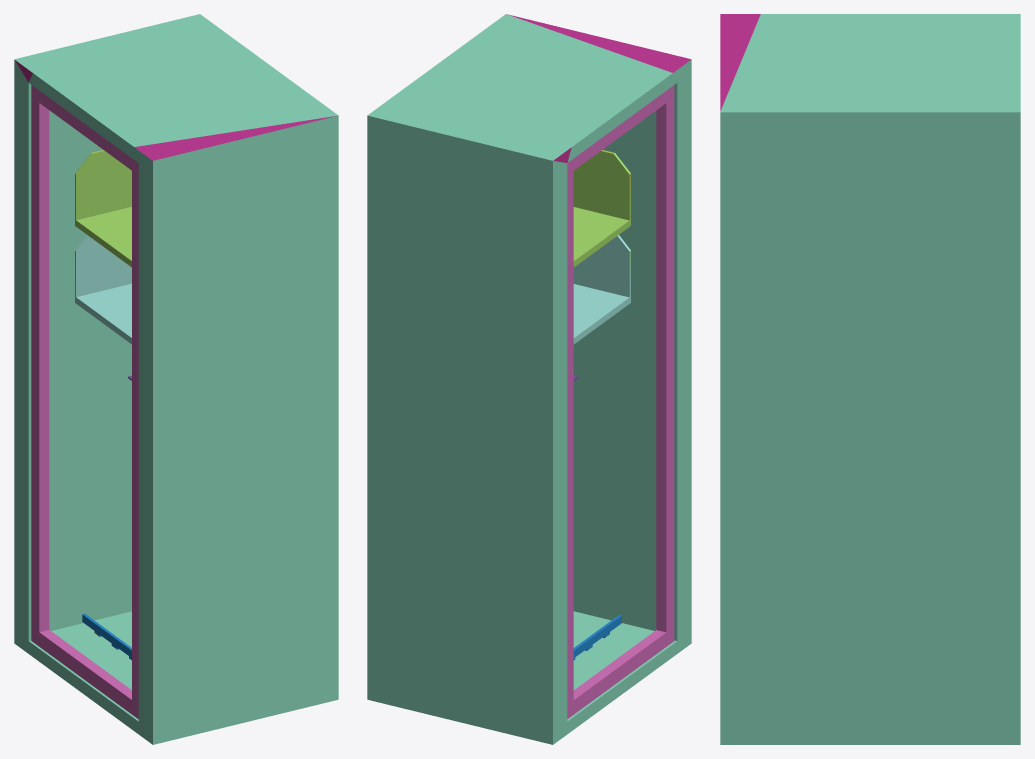
File: garderob.fbx
3 views of the same model, side by side, from view 1: azimuth 30°, elevation 25°; view 2: azimuth 150°, elevation 25°; view 3: azimuth 270°, elevation 25° (orthographic). The views are drawn at different scales.
Visible parts, largest first — view 1: 000-0-2; view 2: 000-0-2; view 3: 000-0-2.
Part boxes in pixels (x1,y1,x2,y2): 000-0-2: (14, 14, 338, 744); 000-0-2: (367, 14, 691, 744); 000-0-2: (720, 14, 1020, 744).
Bounding box in the file's own units: 74.89 × 225 × 96.88.
